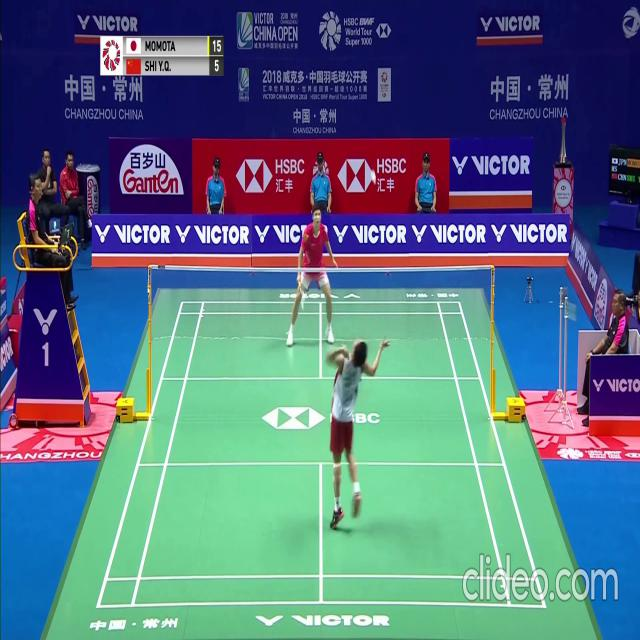Shuttlecock: (372, 175, 377, 183)
